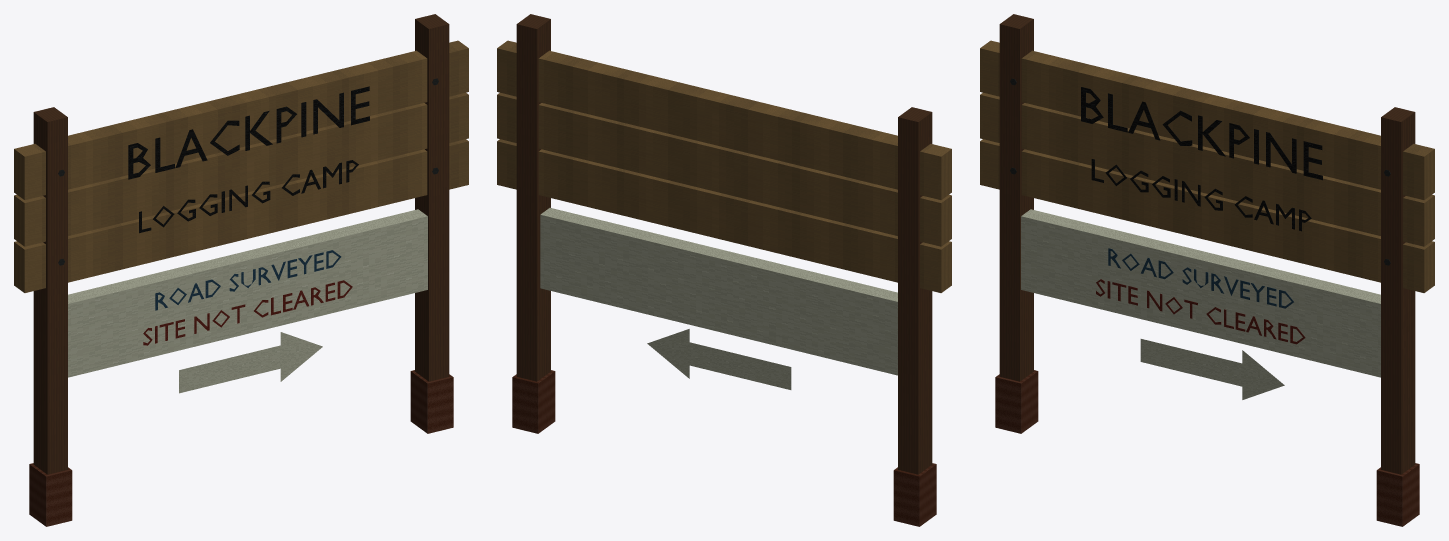
Rendered from level_work_camp_sign.glb.
3 renders of one model, left to right at view 1: azimuth 30°, elevation 25°; view 2: azimuth 150°, elevation 25°; view 3: azimuth 330°, elevation 25°, orthographic.
Parts seen in each view (by area): view 1: level_work_camp_sign; view 2: level_work_camp_sign; view 3: level_work_camp_sign.
Boxes of the visible parts, bbox=[...] form: level_work_camp_sign: bbox=[14, 14, 468, 526]; level_work_camp_sign: bbox=[497, 14, 951, 526]; level_work_camp_sign: bbox=[980, 14, 1434, 526].
Bounding box in the file's own units: 2.4 × 2.08 × 0.16.
Materials: 8 (8 with a texture image).
